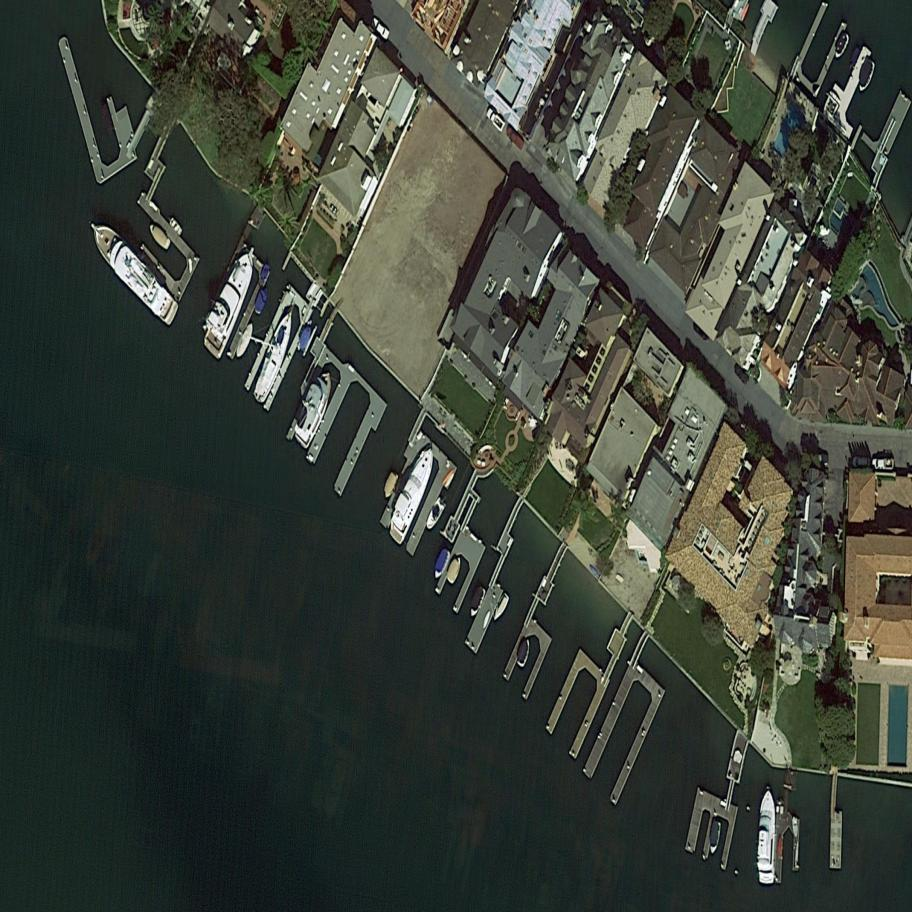large-vehicle: (481, 106, 509, 135)
ship: (79, 213, 188, 330), (196, 238, 263, 360), (383, 441, 440, 547), (248, 305, 305, 407), (287, 365, 342, 452), (757, 788, 777, 885), (233, 319, 258, 362), (853, 52, 878, 94), (144, 220, 176, 252), (422, 496, 448, 535), (430, 546, 453, 583), (490, 590, 513, 625), (466, 585, 488, 621), (444, 553, 465, 587), (514, 636, 534, 671), (98, 100, 117, 136), (380, 470, 401, 501), (831, 30, 851, 60), (295, 325, 315, 353), (252, 286, 270, 317), (708, 820, 722, 856), (165, 216, 185, 238)
small-vehicle: (367, 15, 395, 43), (502, 125, 529, 151), (731, 362, 753, 387), (873, 458, 894, 472), (810, 452, 828, 466), (852, 456, 871, 469)
